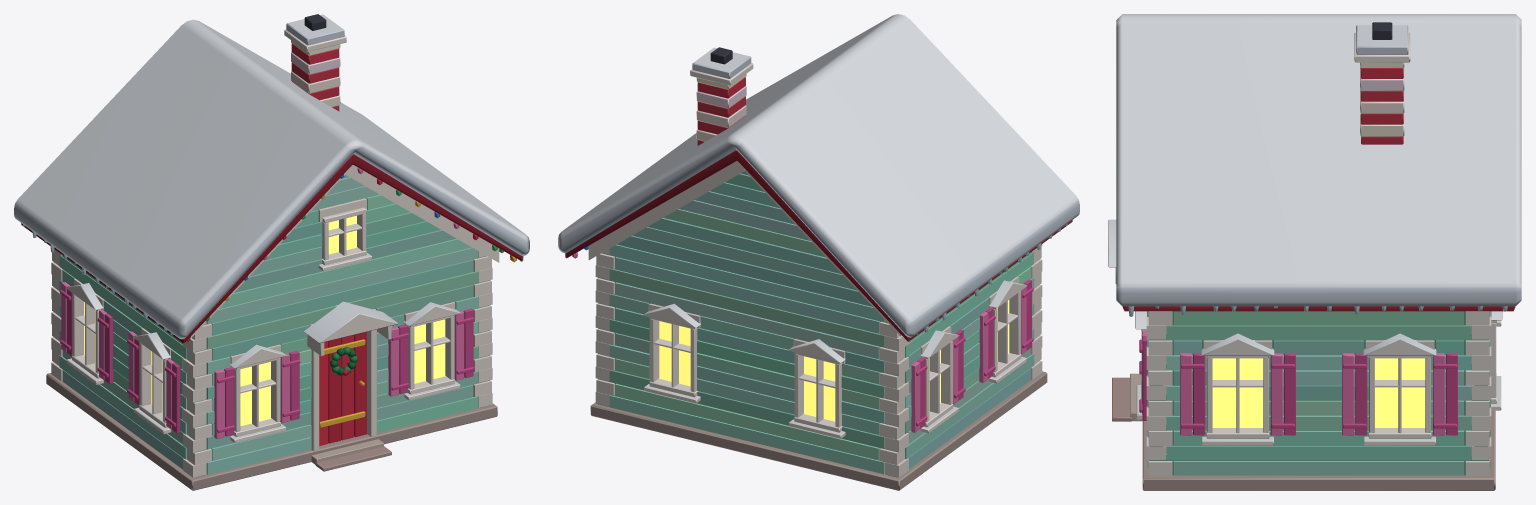
Rendered from CandyHouse.glb.
3 renders of one model, left to right at view 1: azimuth 30°, elevation 25°; view 2: azimuth 150°, elevation 25°; view 3: azimuth 270°, elevation 25°, orthographic. The views are drawn at different scales.
Parts seen in each view (by area): view 1: CandyHouse_Roof, CandyHouse_Walls, CandyHouse_Trim, CandyHouse_Door, CandyHouse_Foundation, CandyHouse_Chimney, CandyHouse_Glow; view 2: CandyHouse_Roof, CandyHouse_Walls, CandyHouse_Trim, CandyHouse_Foundation, CandyHouse_Chimney, CandyHouse_Glow; view 3: CandyHouse_Roof, CandyHouse_Walls, CandyHouse_Trim, CandyHouse_Foundation, CandyHouse_Glow, CandyHouse_Chimney, CandyHouse_Door.
Boxes of the visible parts, <box> form: CandyHouse_Roof: <box>14,19,529,343</box>; CandyHouse_Walls: <box>51,165,499,477</box>; CandyHouse_Trim: <box>60,207,474,443</box>; CandyHouse_Door: <box>304,301,398,471</box>; CandyHouse_Foundation: <box>46,373,497,490</box>; CandyHouse_Chimney: <box>284,14,346,111</box>; CandyHouse_Glow: <box>84,215,445,426</box>; CandyHouse_Roof: <box>558,14,1079,341</box>; CandyHouse_Walls: <box>588,161,1042,477</box>; CandyHouse_Trim: <box>643,279,1033,438</box>; CandyHouse_Foundation: <box>590,371,1047,490</box>; CandyHouse_Chimney: <box>690,47,753,145</box>; CandyHouse_Glow: <box>659,300,1009,421</box>; CandyHouse_Roof: <box>1116,14,1521,316</box>; CandyHouse_Walls: <box>1146,311,1491,476</box>; CandyHouse_Trim: <box>1135,311,1502,445</box>; CandyHouse_Foundation: <box>1142,325,1495,490</box>; CandyHouse_Glow: <box>1212,358,1425,427</box>; CandyHouse_Chimney: <box>1354,22,1410,144</box>; CandyHouse_Door: <box>1108,219,1142,421</box>.
Size of the model in its own units: 27.2 by 25.53 by 22.95.
